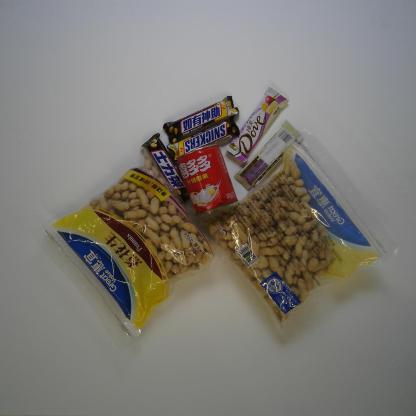Canned Food: (176, 144, 238, 218)
Chocolate: (225, 86, 289, 164), (233, 120, 302, 191), (140, 132, 194, 204), (163, 94, 240, 144), (166, 113, 240, 163)
Dried Food: (195, 128, 398, 338), (36, 147, 223, 341)
